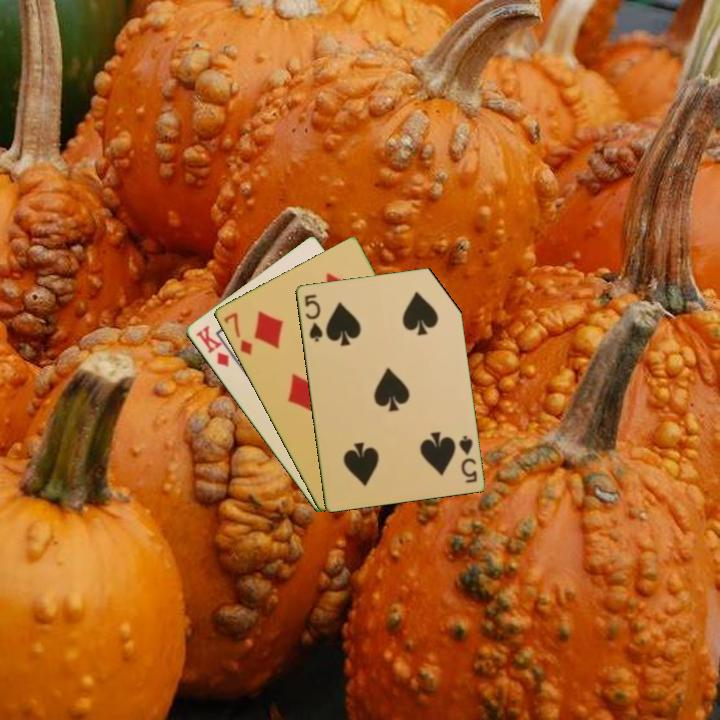5s: (455, 432, 480, 486), (301, 291, 325, 344)
7d: (219, 309, 255, 358)
Kd: (192, 322, 232, 370)
